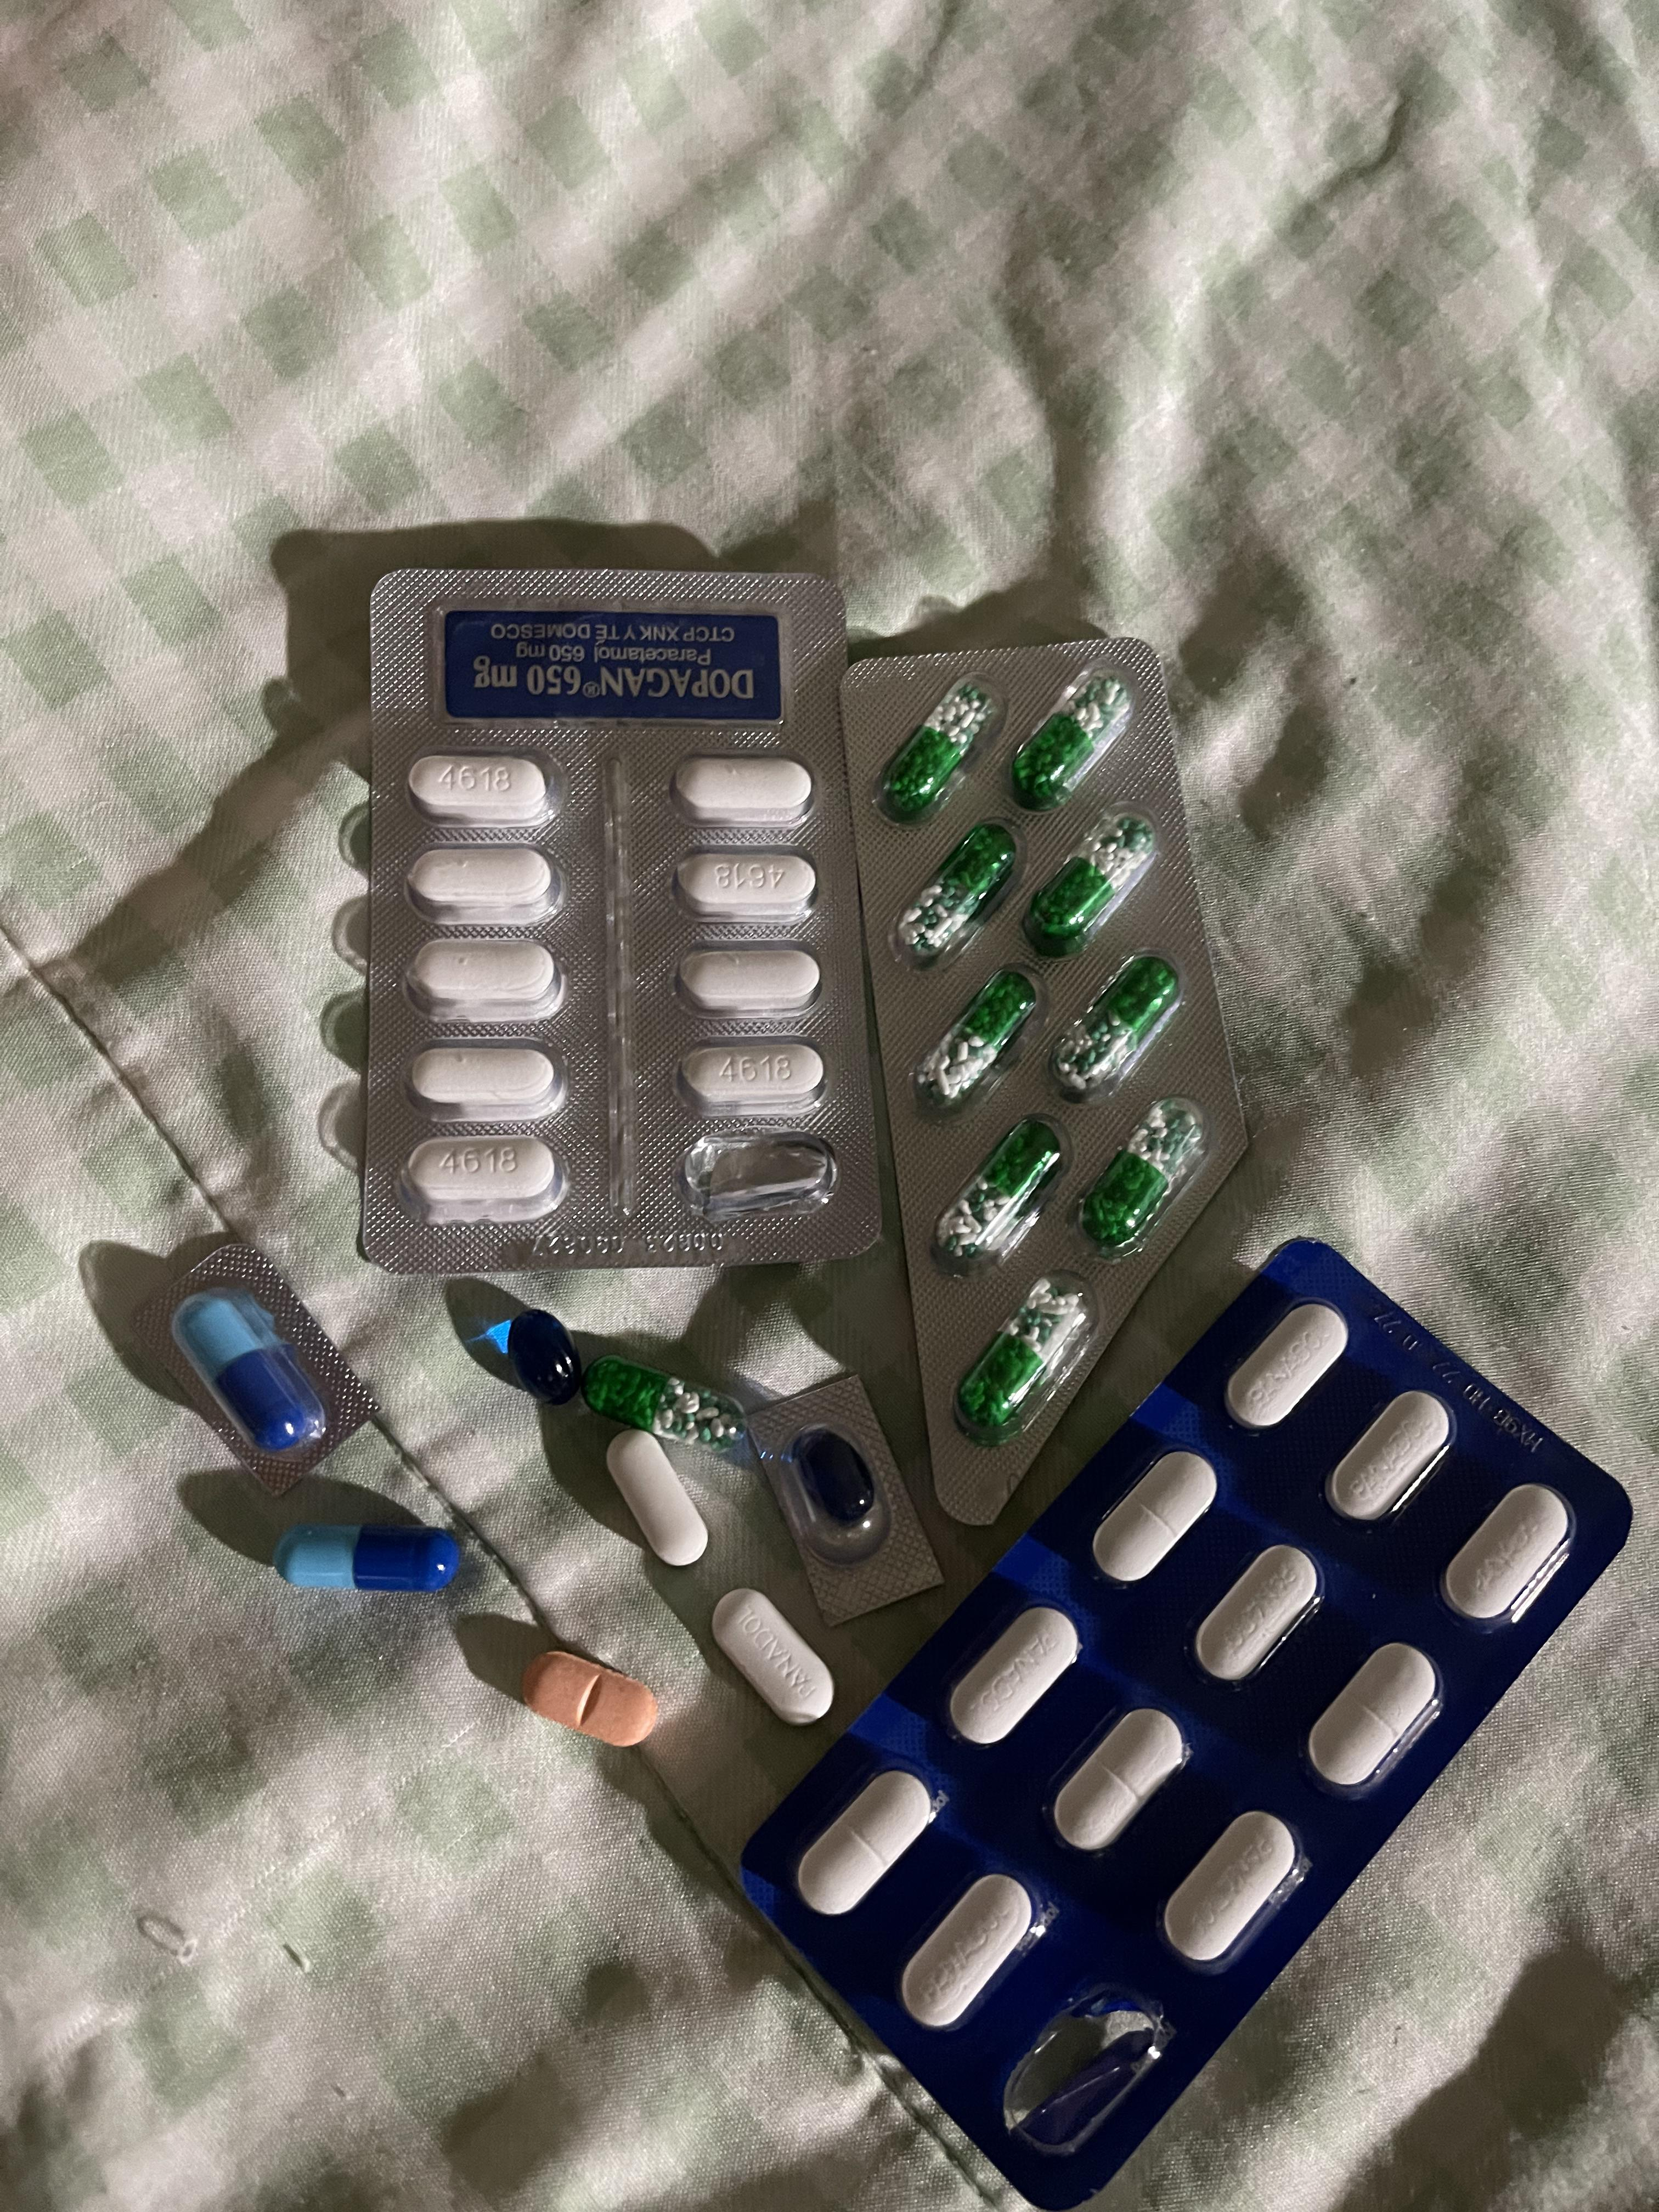Lincomyxin_500mg: (507, 1308, 584, 1406), (798, 1430, 877, 1524)
Loratadine_10mg: (523, 1649, 662, 1747)
Paracetamol_350mg: (1164, 1808, 1298, 1966), (901, 1872, 1035, 2031), (1307, 1642, 1441, 1792), (1051, 1707, 1183, 1853), (798, 1766, 925, 1916), (946, 1606, 1080, 1747), (1443, 1486, 1577, 1625), (1192, 1545, 1321, 1684), (1326, 1390, 1457, 1524), (1091, 1451, 1215, 1585), (1225, 1298, 1351, 1425), (713, 1590, 830, 1726)
Paracetamol_500mg: (606, 1428, 709, 1566), (404, 1136, 561, 1212), (408, 941, 563, 1015), (408, 1045, 565, 1115), (408, 848, 558, 918), (408, 754, 551, 824), (673, 756, 812, 826), (678, 946, 816, 1014), (678, 1043, 817, 1109), (676, 853, 810, 916)
Paracetamol_650mg: (932, 1115, 1065, 1277), (1077, 1097, 1208, 1256), (955, 1280, 1087, 1426), (1054, 956, 1180, 1109), (877, 676, 999, 822), (1028, 813, 1150, 951), (580, 1355, 748, 1454), (1012, 669, 1129, 808), (924, 970, 1037, 1109), (904, 822, 1016, 954)
pill: (178, 1296, 322, 1453), (274, 1524, 462, 1595)
